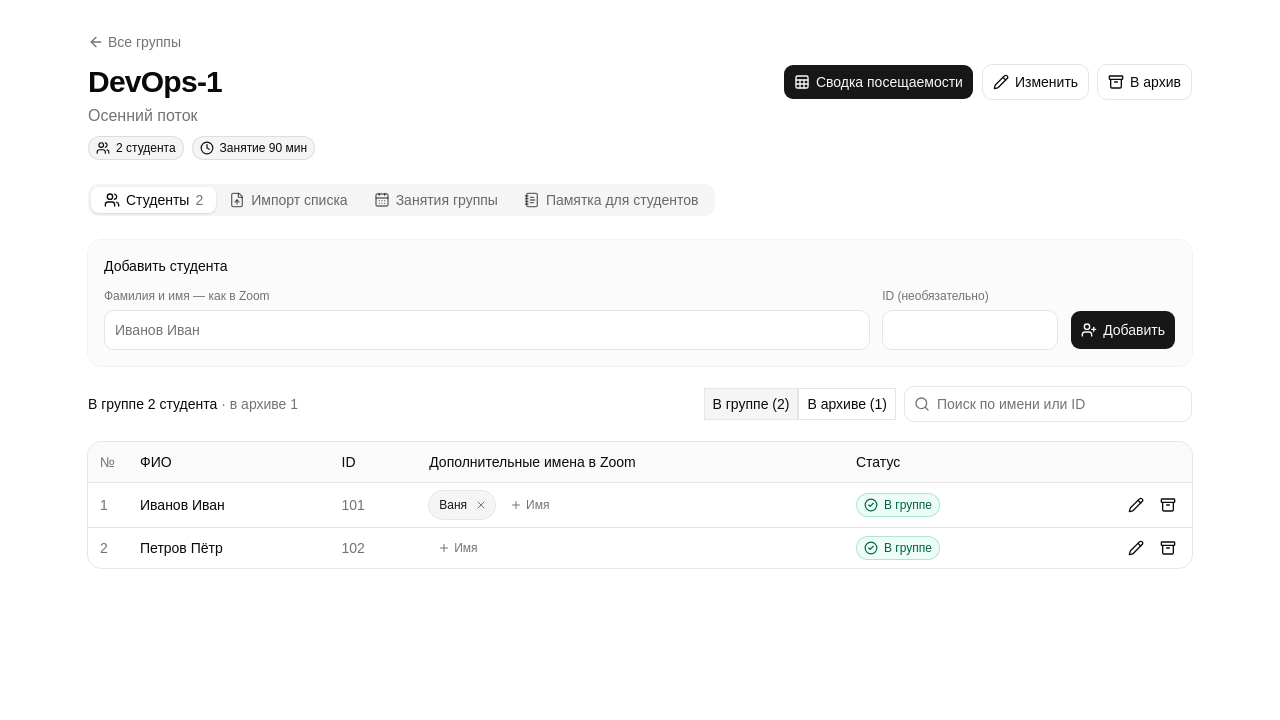
Test: GroupPage › explains a duplicate name when renaming a student (409)
Step 1. Click the button named "Изменить: Петров Пётр" → (1136, 548), box [1120,532,1152,564]
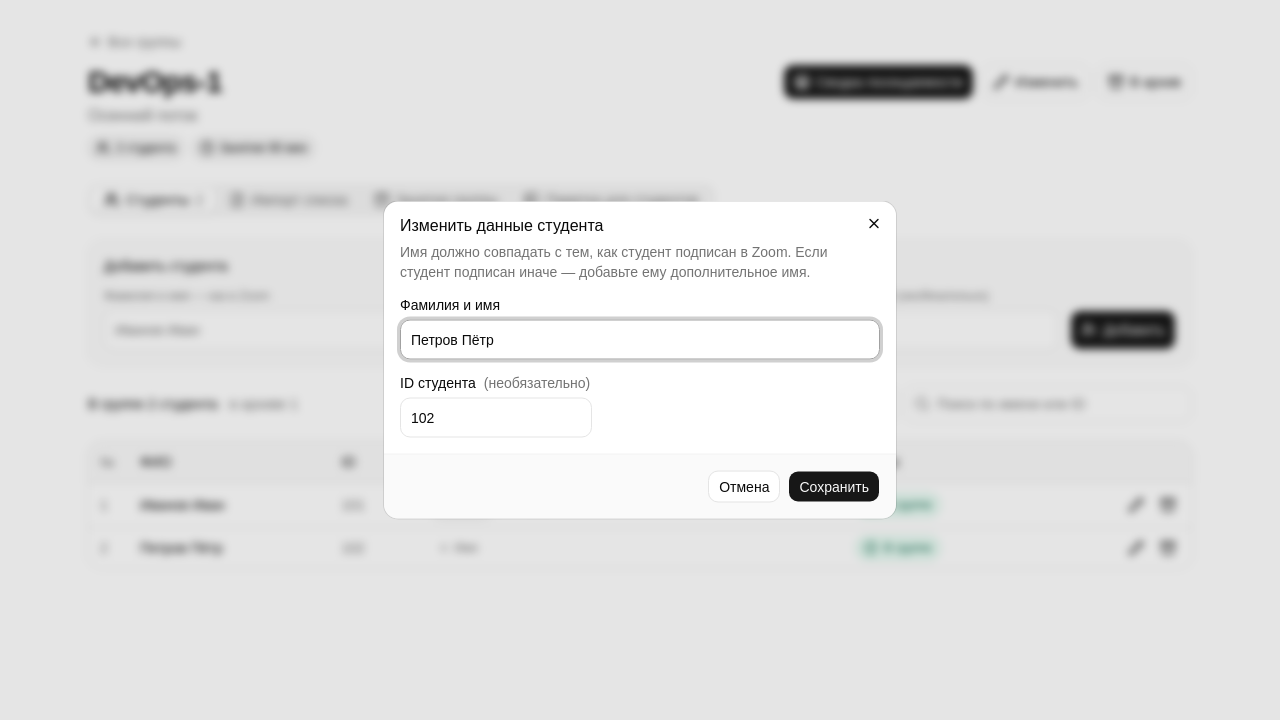
Expected: the field labelled "Фамилия и имя" holds "Петров Пётр"
Step 2. Replace the text in the field labelled "Фамилия и имя" with "Иванов Иван" → (640, 340), box [400,320,880,360]
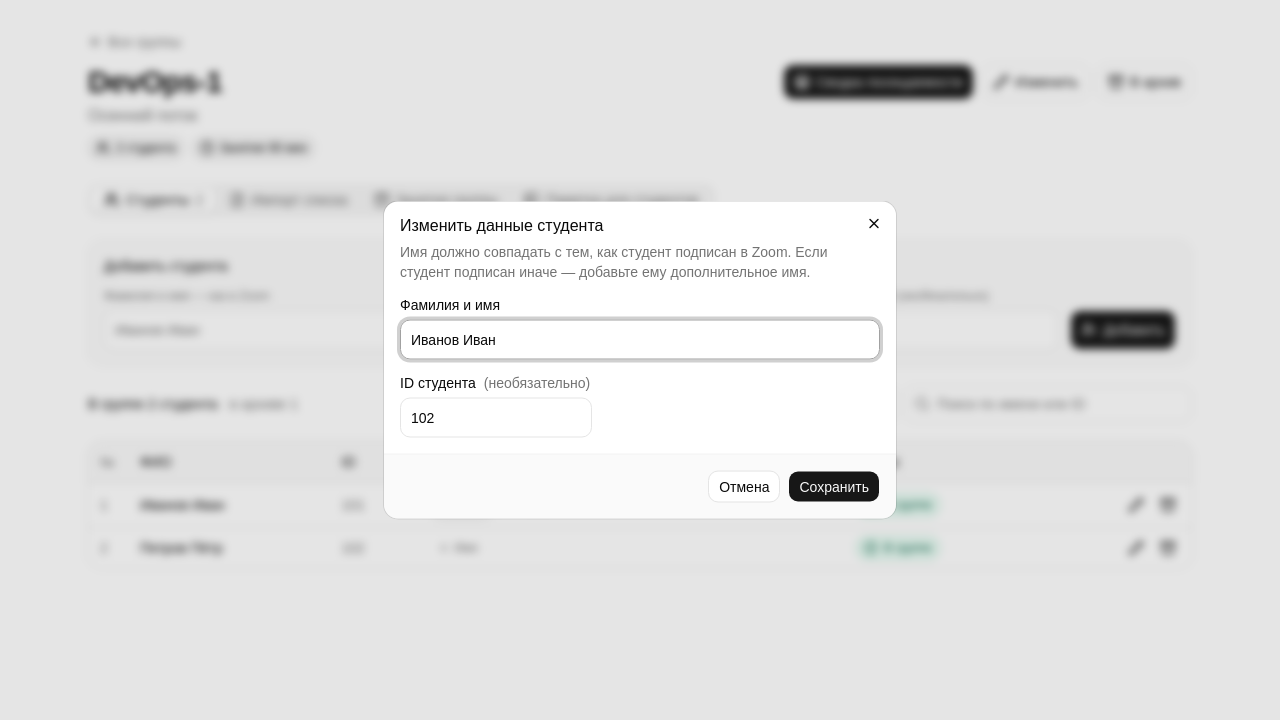
Step 3. Click the button "Сохранить" → (834, 486), box [788,470,880,502]
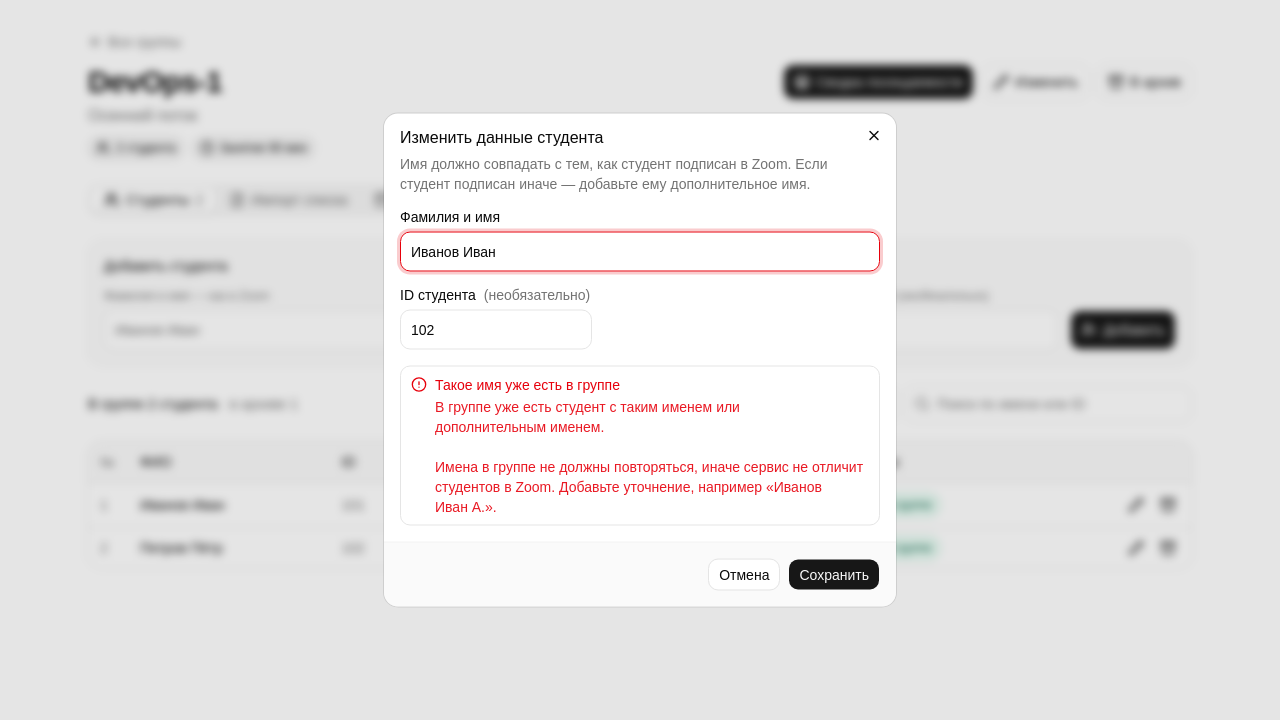
Expected: the text "Такое имя уже есть в группе" is shown, [435,376,620,392]
Expected: the text "В группе уже есть студент с таким именем или дополнительным именем." is shown, [435,398,740,434]
Expected: the text "например «Иванов Иван А.»" is shown, [435,456,869,516]
Step 4. Replace the text in the field labelled "Фамилия и имя" with "Петров Пётр С." → (640, 252), box [400,232,880,272]
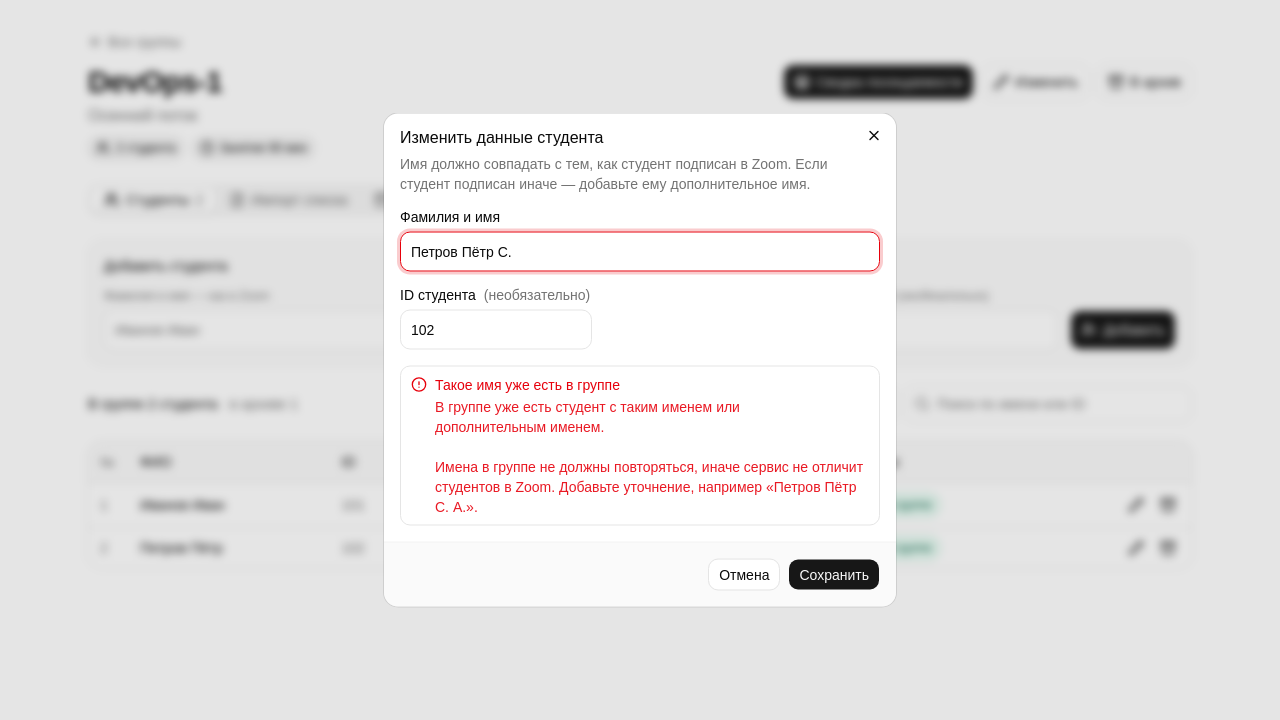
Step 5. Click the button "Сохранить" → (834, 574), box [788,558,880,590]
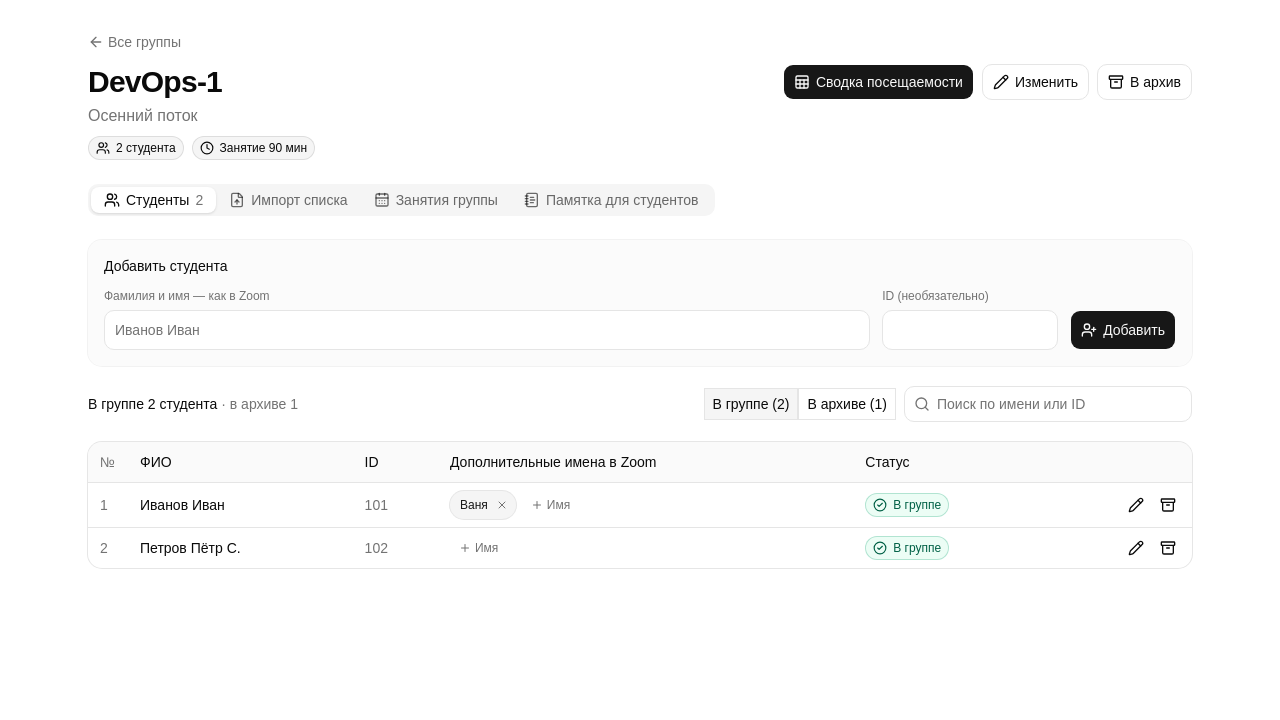
Expected: the dialog is gone
Expected: the text "Петров Пётр С." is shown, [128,528,353,568]
